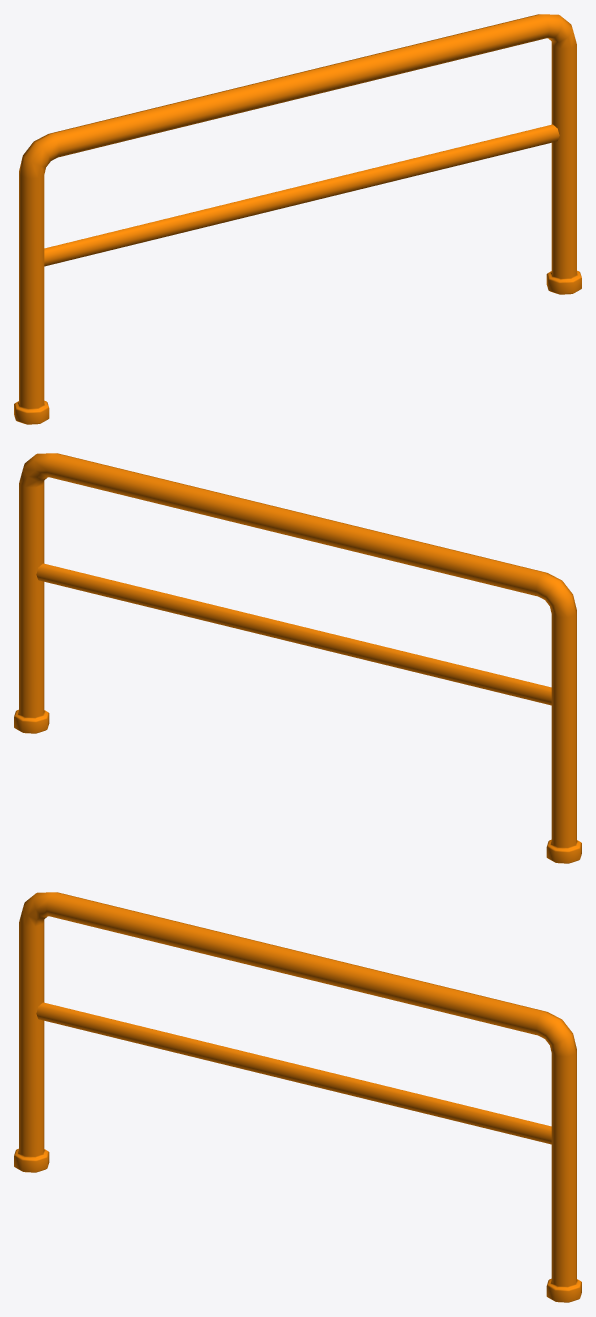
Rendered from Fence.fbx.
3 views of the same model, one above another, from view 1: azimuth 30°, elevation 25°; view 2: azimuth 150°, elevation 25°; view 3: azimuth 330°, elevation 25° (orthographic).
Visible parts, largest first — view 1: Plane.033; view 2: Plane.033; view 3: Plane.033.
Part boxes in pixels (x1,y1,x2,y2): Plane.033: [14, 14, 581, 424]; Plane.033: [14, 453, 581, 863]; Plane.033: [14, 892, 581, 1302].
Bounding box in the file's own units: 195 × 92.11 × 10.93.
